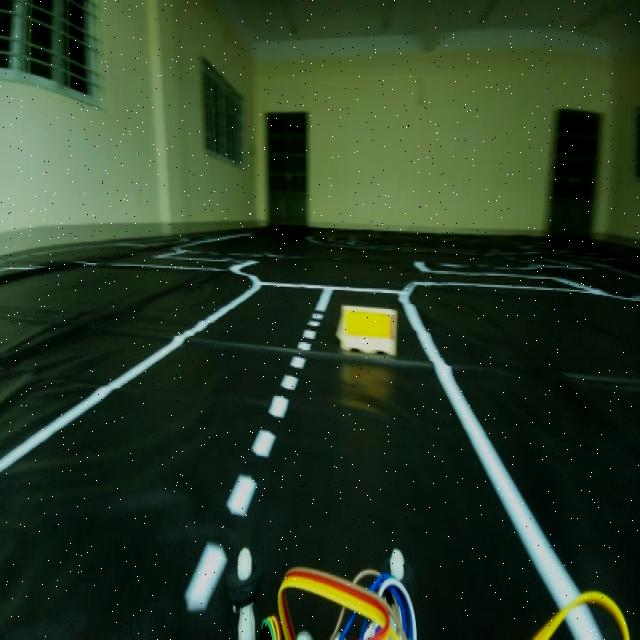roadblock: (333, 295, 411, 374)
